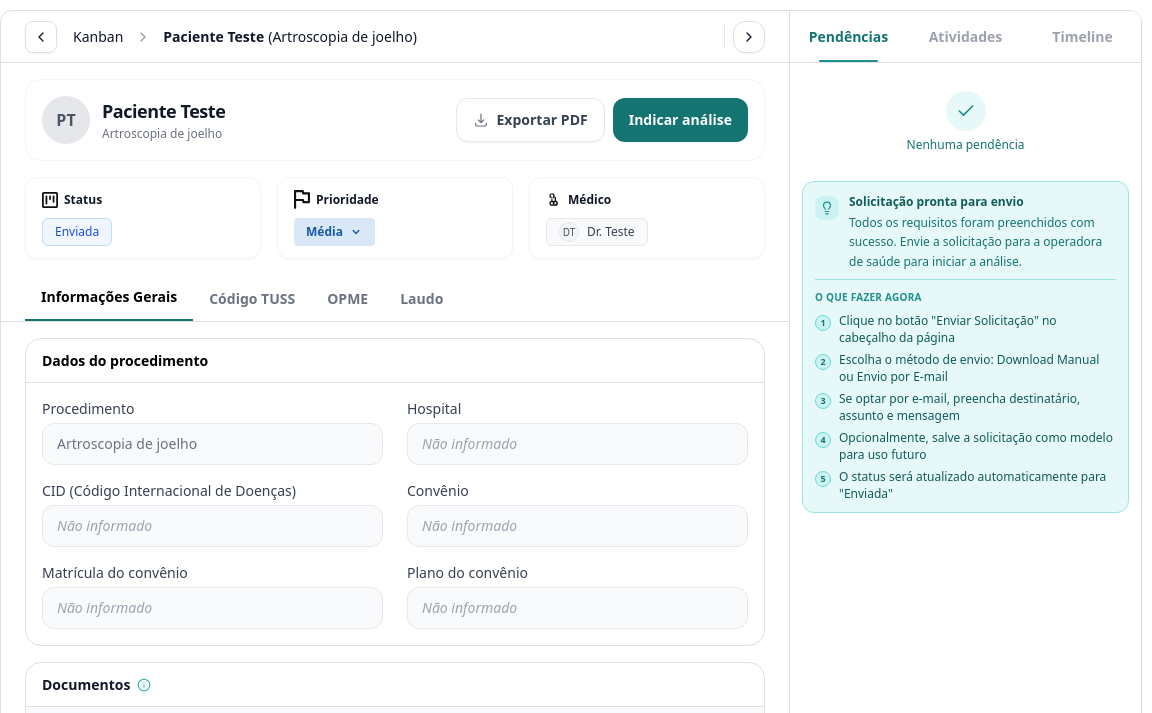
Test case: Detalhe da Solicitação — erros visíveis › mostra toast quando a exportação do PDF falha
Click the button "Exportar PDF".
click(530, 120)  # box left=456, top=98, right=605, bottom=142
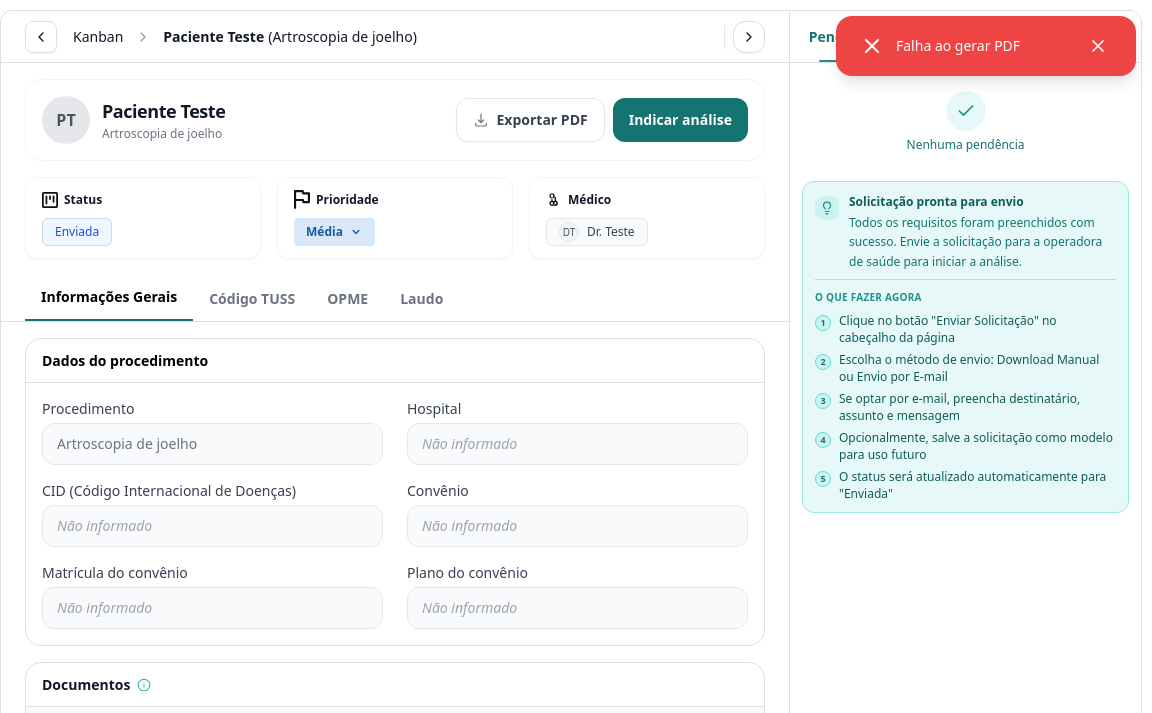
Result: the text "Falha ao gerar PDF" is shown at left=896, top=36, right=1020, bottom=55
